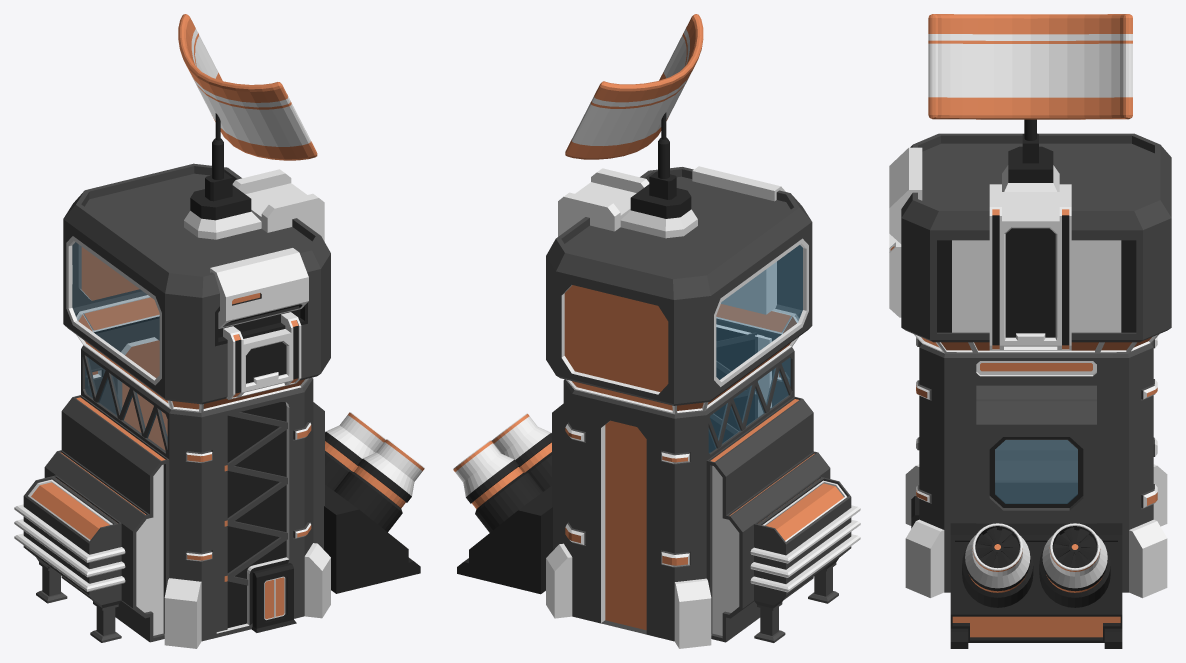
File: Building1.fbx
3 views of the same model, side by side, from view 1: azimuth 30°, elevation 25°; view 2: azimuth 150°, elevation 25°; view 3: azimuth 270°, elevation 25° (orthographic). The views are drawn at different scales.
Visible parts, largest first — view 1: Cube.002, Cylinder.006, Cube.006, Cube.007, Cube.005, Plane.002, Cube.004, Cylinder, Cylinder.002, Plane.003, door.001, Cylinder.005; view 2: Cube.002, Cylinder.006, Cube.006, Cube.007, Cylinder.002, Cylinder, Cube.004, Plane.003, Cube.005, Plane.002, Cylinder.005; view 3: Cube.002, Cylinder.006, Cube.006, Cube.007, Cylinder.002, Cylinder, Cube.005, Cylinder.003, Cylinder.001, Cube.004.
Part boxes in pixels (bbox=[...]): Cube.002: bbox=[14, 163, 330, 648]; Cylinder.006: bbox=[178, 14, 317, 160]; Cube.006: bbox=[184, 169, 324, 241]; Cube.007: bbox=[324, 484, 420, 593]; Cube.005: bbox=[210, 248, 308, 328]; Plane.002: bbox=[216, 412, 287, 631]; Cube.004: bbox=[223, 312, 301, 399]; Cylinder: bbox=[334, 439, 424, 532]; Cylinder.002: bbox=[325, 412, 385, 490]; Plane.003: bbox=[83, 355, 167, 452]; door.001: bbox=[264, 576, 285, 620]; Cylinder.005: bbox=[212, 113, 223, 179]; Cube.002: bbox=[546, 167, 860, 648]; Cylinder.006: bbox=[565, 14, 703, 159]; Cube.006: bbox=[558, 168, 697, 238]; Cube.007: bbox=[457, 486, 552, 594]; Cylinder.002: bbox=[453, 440, 542, 532]; Cylinder: bbox=[491, 413, 551, 491]; Cube.004: bbox=[721, 262, 776, 314]; Plane.003: bbox=[708, 364, 791, 448]; Cube.005: bbox=[692, 166, 785, 201]; Plane.002: bbox=[709, 332, 771, 453]; Cylinder.005: bbox=[658, 112, 669, 178]; Cube.002: bbox=[901, 133, 1171, 598]; Cylinder.006: bbox=[928, 14, 1132, 119]; Cube.006: bbox=[989, 133, 1071, 350]; Cube.007: bbox=[950, 523, 1122, 648]; Cylinder.002: bbox=[1039, 523, 1110, 607]; Cylinder: bbox=[962, 523, 1033, 607]; Cube.005: bbox=[889, 147, 922, 243]; Cylinder.003: bbox=[1053, 527, 1096, 567]; Cylinder.001: bbox=[976, 527, 1019, 567]; Cube.004: bbox=[889, 234, 901, 317].
Bounding box in the file's own units: 3.62 × 5.26 × 2.41.
